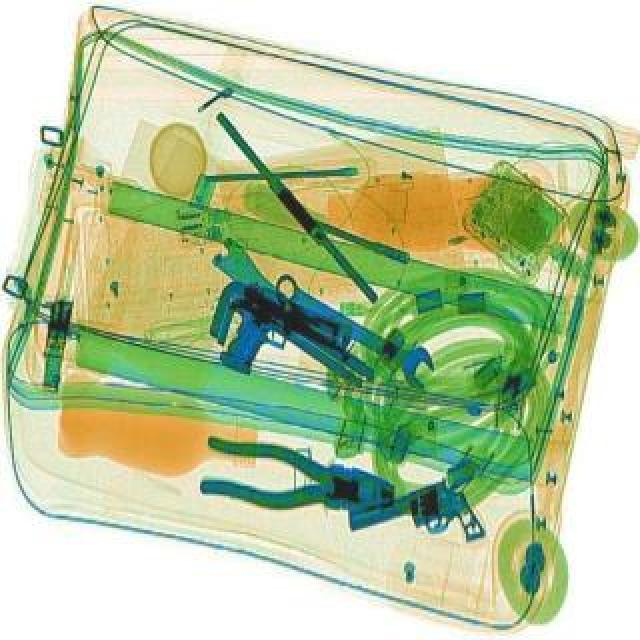gun: (208, 282, 356, 410), (340, 474, 488, 582)
scissors: (260, 272, 444, 396)
wrench: (196, 438, 400, 526)
